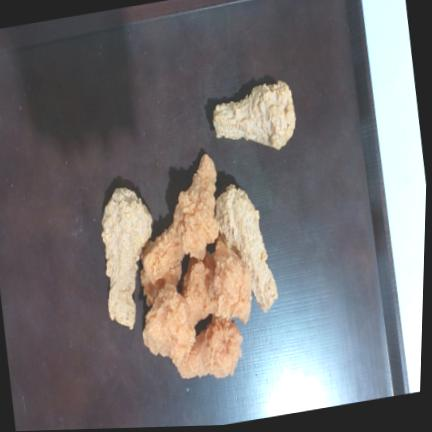chicken: (216, 186, 277, 310), (101, 187, 152, 329), (213, 80, 295, 149), (173, 154, 218, 259), (173, 315, 241, 377), (143, 283, 195, 360), (209, 239, 251, 322), (142, 223, 184, 284), (182, 251, 215, 323)
